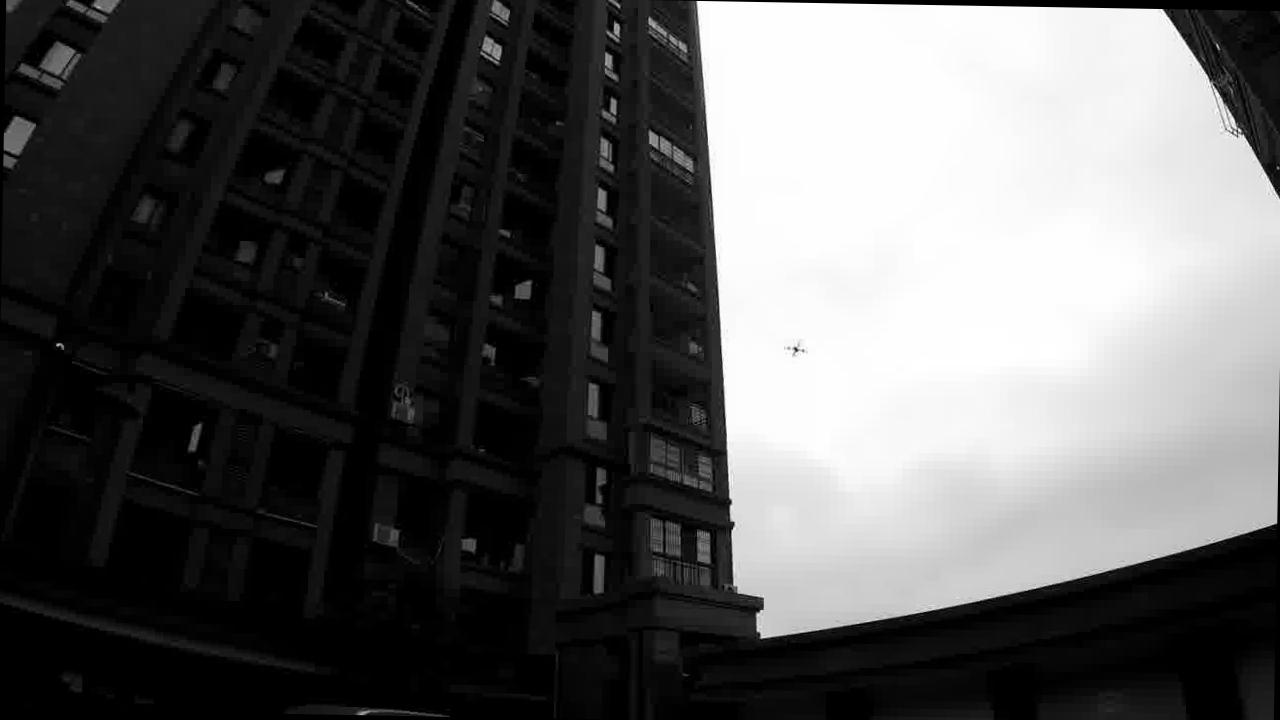drone: (779, 335, 808, 360)
